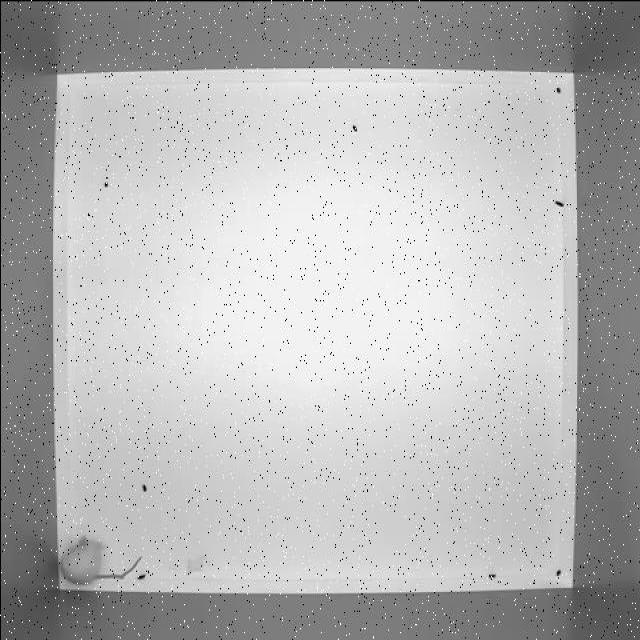rat: (48, 529, 150, 588)
